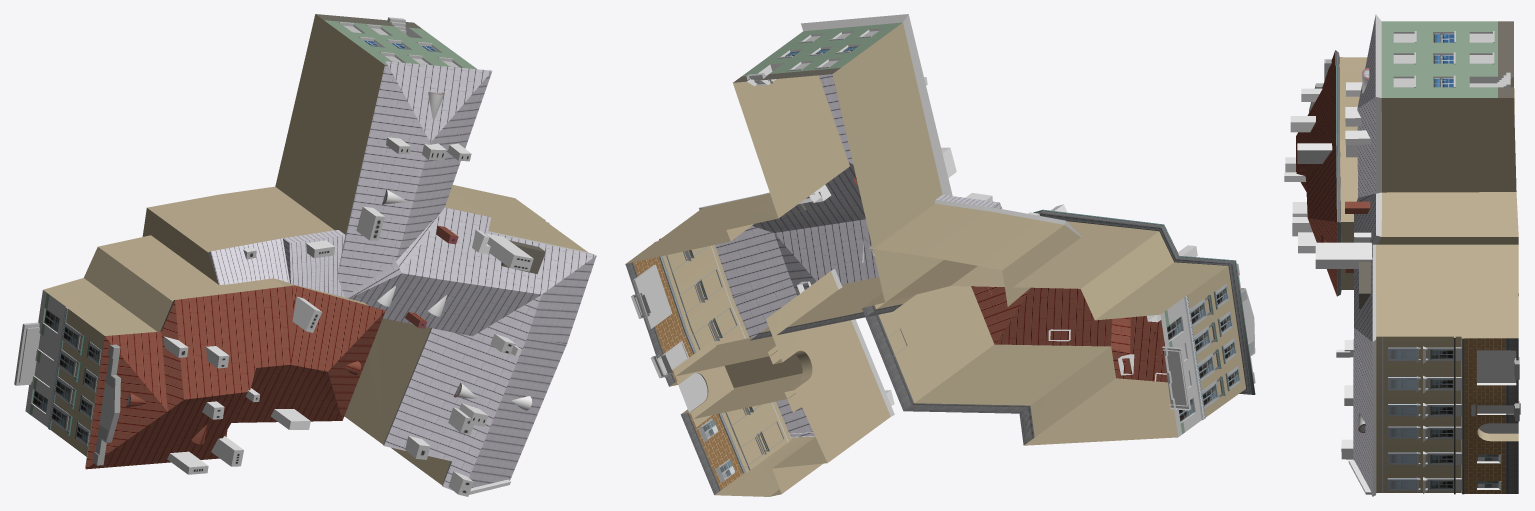
The model's file is Raekoja_plats_14.obj.
3 renders of one model, left to right at view 1: azimuth 30°, elevation 25°; view 2: azimuth 150°, elevation 25°; view 3: azimuth 270°, elevation 25°, orthographic. The views are drawn at different scales.
Parts seen in each view (by area): view 1: Raekoja_plats_14; view 2: Raekoja_plats_14; view 3: Raekoja_plats_14.
Part boxes in pixels (x1,y1,x2,y2): Raekoja_plats_14: (14, 14, 596, 496); Raekoja_plats_14: (625, 14, 1255, 496); Raekoja_plats_14: (1284, 14, 1520, 496).
Bounding box in the file's own units: 57.78 × 46.55 × 23.36.
